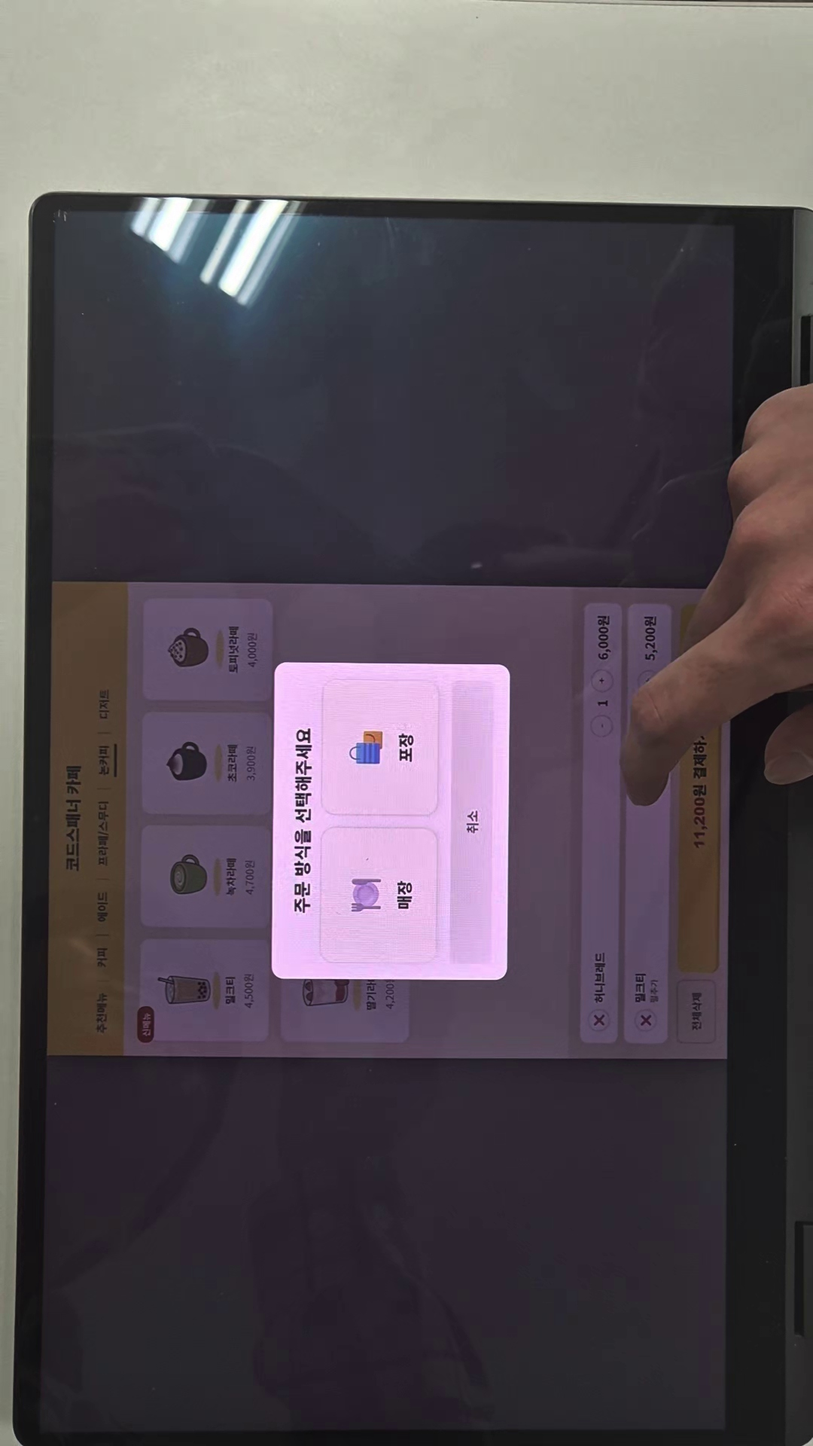action_button: (453, 681, 492, 962)
option_button: (323, 679, 437, 815), (322, 829, 438, 961)
popup_modal: (273, 661, 507, 979)
